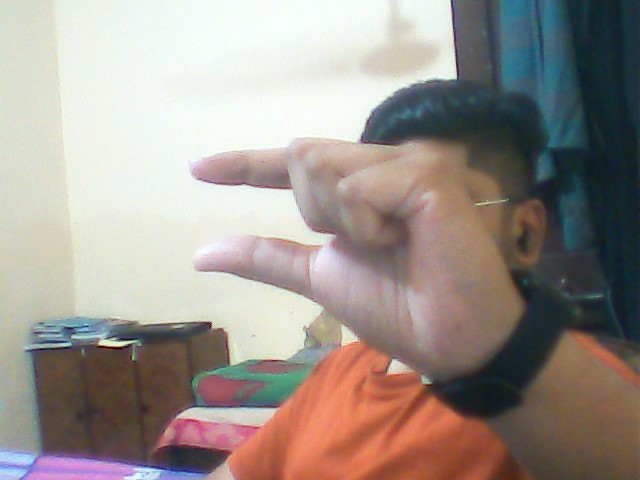small: (179, 135, 517, 380)
